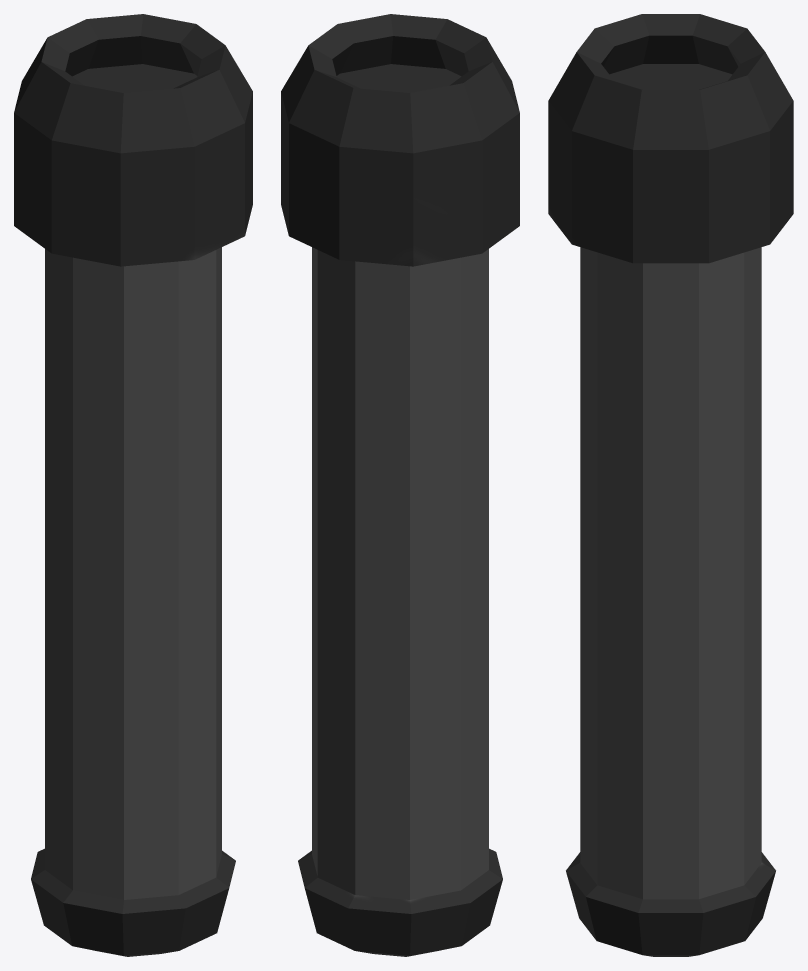
Rendered from laserSword_Handle.fbx.
3 views of the same model, side by side, from view 1: azimuth 30°, elevation 25°; view 2: azimuth 150°, elevation 25°; view 3: azimuth 270°, elevation 25° (orthographic).
Visible parts, largest first — view 1: LightSaber_Handle; view 2: LightSaber_Handle; view 3: LightSaber_Handle.
Boxes of the visible parts, x1,y1,x2,y2 form: LightSaber_Handle: [14, 14, 252, 956]; LightSaber_Handle: [281, 14, 519, 956]; LightSaber_Handle: [548, 14, 793, 956].
Size of the model in its own units: 9.29 by 38.84 by 9.77.
1 material, 1 textured.
